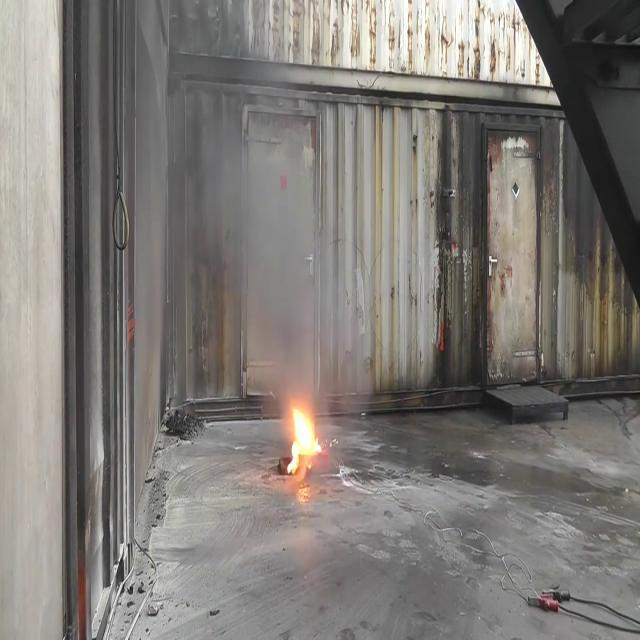Fire: (285, 394, 323, 474)
Smoke: (173, 60, 363, 408)
